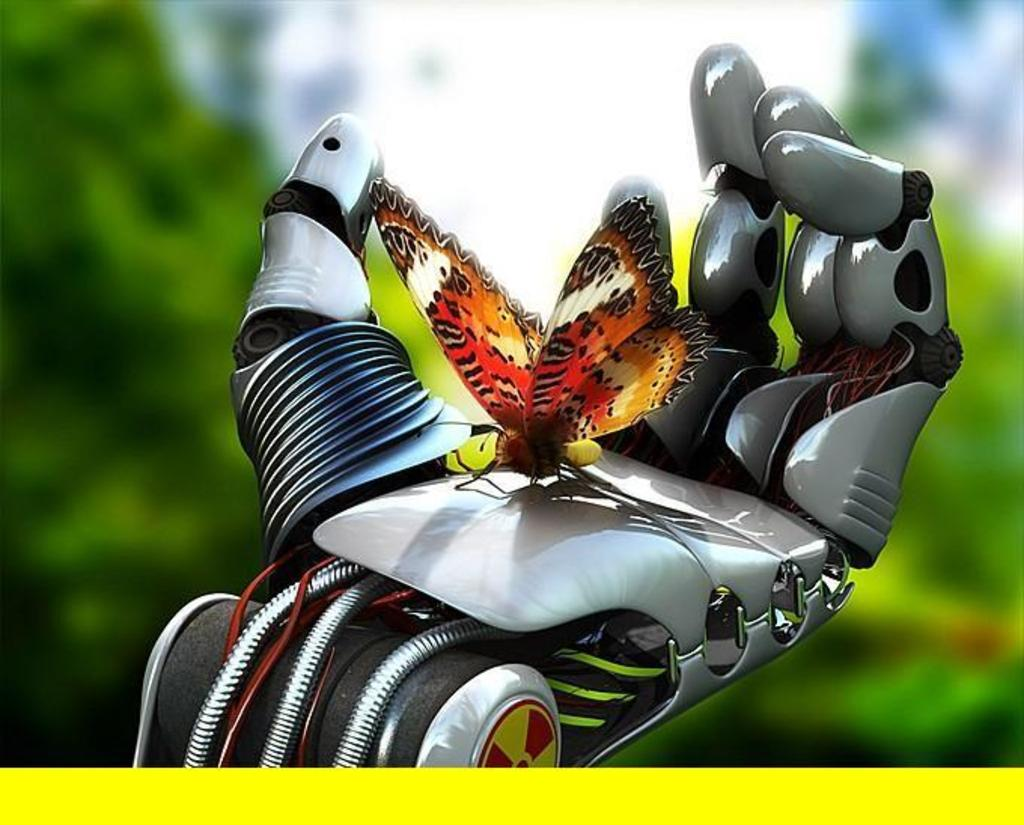Butterfly: (356, 163, 723, 501)
